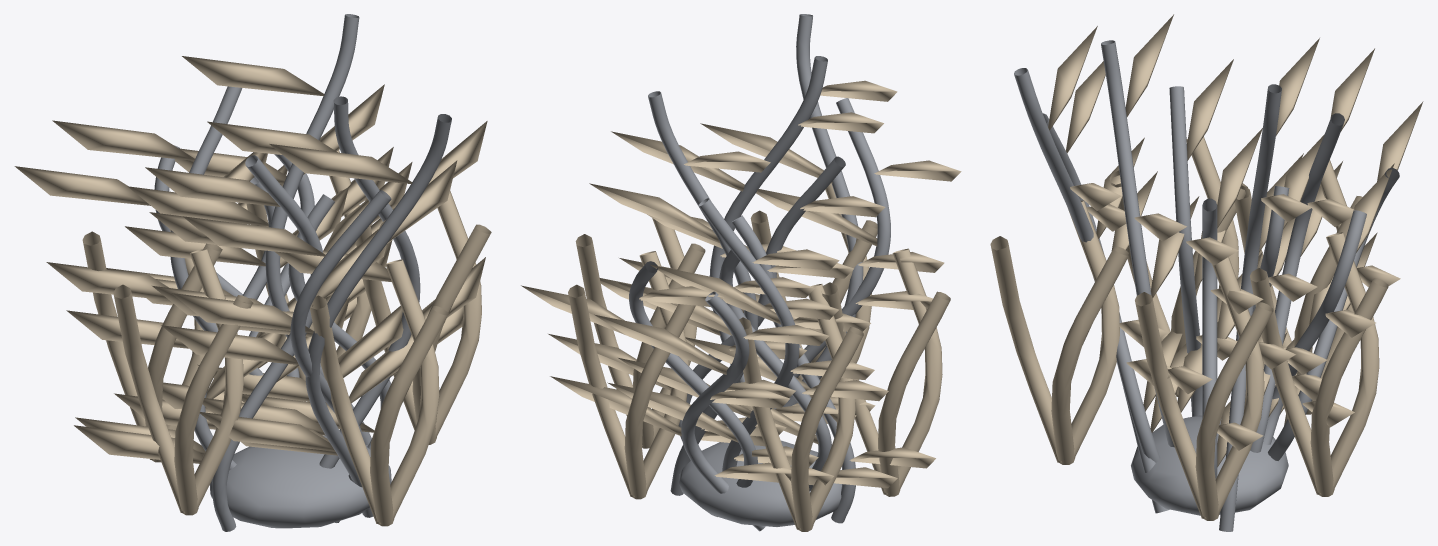
File: bio_aquatic_frond_19_far.glb
3 views of the same model, side by side, from view 1: azimuth 30°, elevation 25°; view 2: azimuth 150°, elevation 25°; view 3: azimuth 270°, elevation 25° (orthographic). The views are drawn at different scales.
Parts seen in each view (by area): view 1: Spiral filament.006, Spiral filament.012, Ruffled aquatic blade.010, Holdfast, Ruffled aquatic blade.035, Ruffled aquatic blade.040, Spiral filament, Ruffled aquatic blade.020, Ruffled aquatic blade.045, Ruffled aquatic blade.025, Ruffled aquatic blade.005, Flexible stipe.002 (+14 smaller); view 2: Spiral filament.003, Spiral filament.009, Spiral filament.012, Ruffled aquatic blade.030, Holdfast, Ruffled aquatic blade.005, Spiral filament, Ruffled aquatic blade.015, Ruffled aquatic blade.040, Ruffled aquatic blade.020, Ruffled aquatic blade.045, Ruffled aquatic blade.010 (+14 smaller); view 3: Spiral filament.006, Spiral filament, Spiral filament.009, Holdfast, Ruffled aquatic blade.025, Flexible stipe.008, Flexible stipe.004, Flexible stipe.005, Ruffled aquatic blade.010, Ruffled aquatic blade, Ruffled aquatic blade.035, Flexible stipe.001 (+14 smaller).
Boxes of the visible parts, x1,y1,x2,y2 form: Spiral filament.006: (310,259,448,526); Spiral filament.012: (113,248,253,515); Ruffled aquatic blade.010: (171,144,457,451); Holdfast: (209,436,391,528); Ruffled aquatic blade.035: (161,216,413,455); Ruffled aquatic blade.040: (125,56,392,403); Spiral filament: (355,190,491,444); Ruffled aquatic blade.020: (74,162,412,463); Ruffled aquatic blade.045: (66,186,348,455); Ruffled aquatic blade.025: (202,121,487,435); Ruffled aquatic blade.005: (46,120,296,412); Flexible stipe.002: (305,114,451,517); Spiral filament.003: (739,284,863,531); Spiral filament.009: (568,251,695,499); Spiral filament.012: (822,248,950,496); Ruffled aquatic blade.030: (550,314,828,482); Holdfast: (678,440,842,526); Ruffled aquatic blade.005: (618,249,874,466); Spiral filament: (575,218,705,448); Ruffled aquatic blade.015: (521,285,833,485); Ruffled aquatic blade.040: (589,151,838,435); Ruffled aquatic blade.020: (647,196,935,468); Ruffled aquatic blade.045: (618,277,897,488); Ruffled aquatic blade.010: (700,80,944,411); Spiral filament.006: (990,200,1128,464); Spiral filament: (1135,257,1273,520); Spiral filament.009: (1250,232,1388,496); Holdfast: (1131,415,1288,515); Ruffled aquatic blade.025: (1125,14,1218,412); Flexible stipe.008: (1219,84,1281,531); Flexible stipe.004: (1169,86,1202,416); Flexible stipe.005: (1101,40,1174,447); Ruffled aquatic blade.010: (1048,26,1182,411); Ruffled aquatic blade: (1210,128,1263,467); Ruffled aquatic blade.035: (1066,61,1199,432); Flexible stipe.001: (1250,113,1344,452).
Size of the model in its own units: 1.79 by 1.89 by 1.64.
